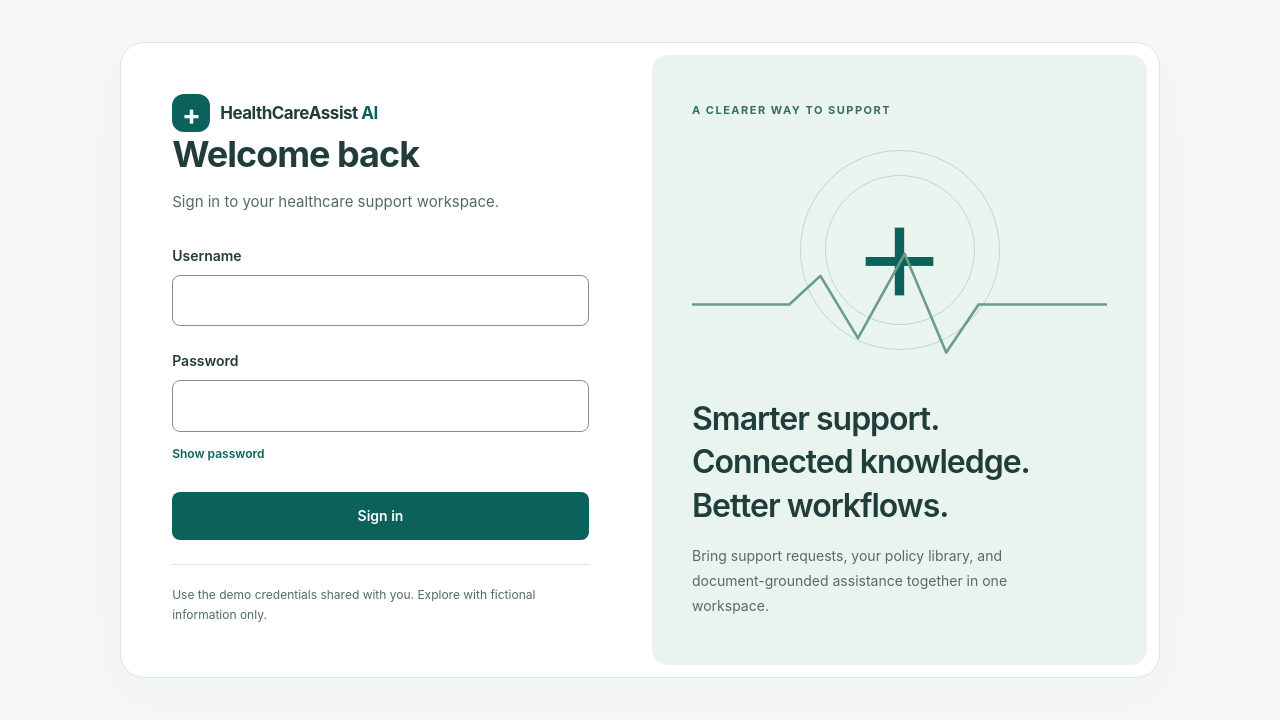
server-backed demo authentication › shows a safe login network failure without retrying
Type "fictional-reviewer" into the field labelled "Username". click: {"x": 380, "y": 301}
box: [172,275,589,326]
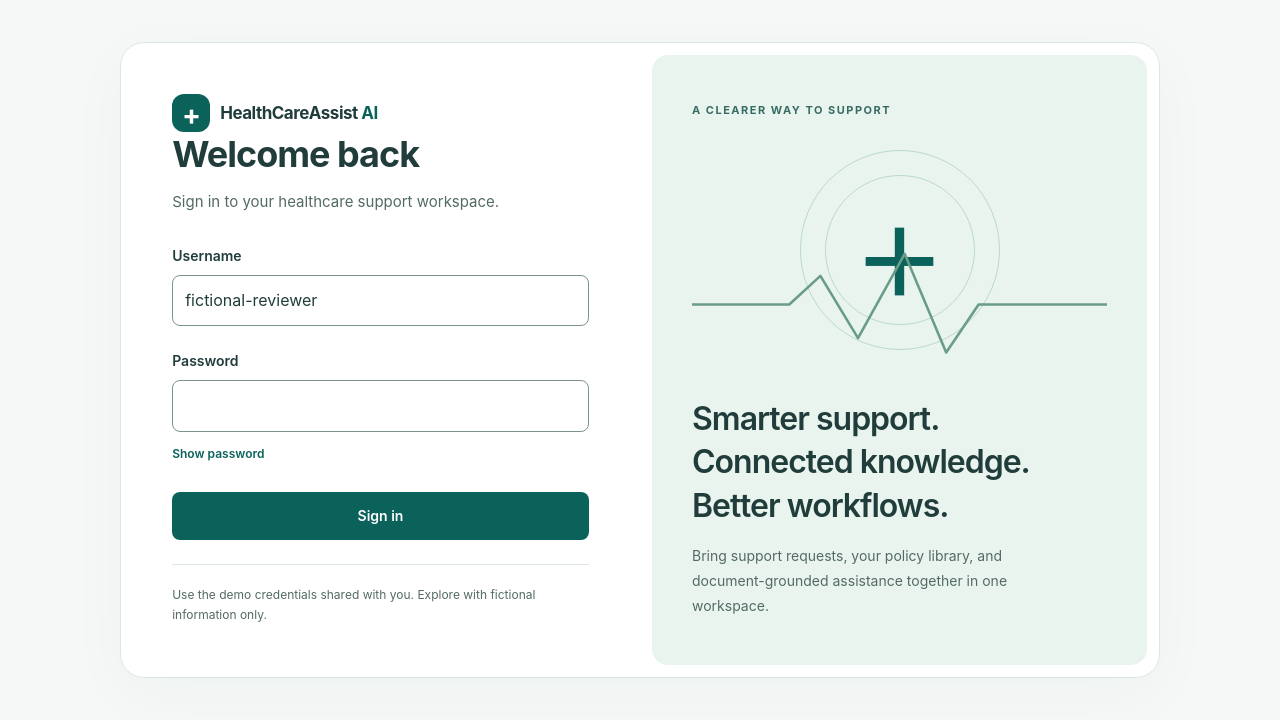
Type "synthetic-input-only" into the password field labelled "Password". click: {"x": 380, "y": 406}
box: [172,380,589,432]
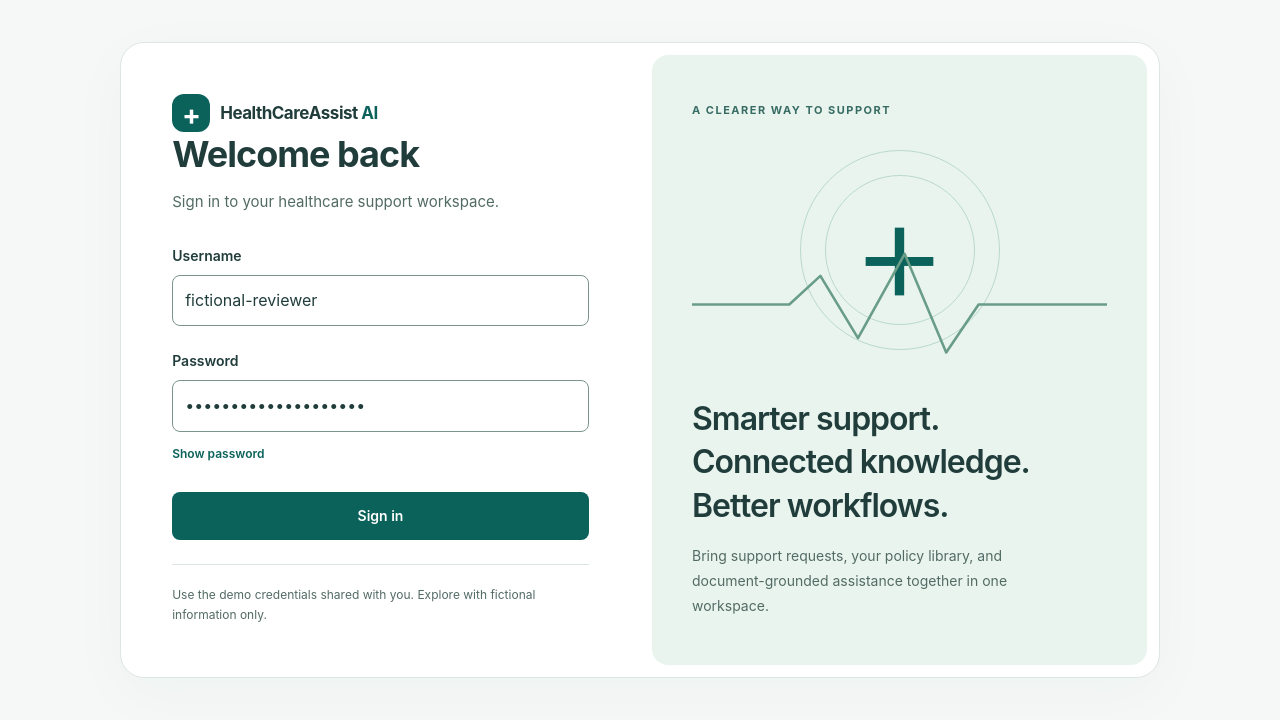
Submit the form named "Demo sign in", box [172,245,589,540]
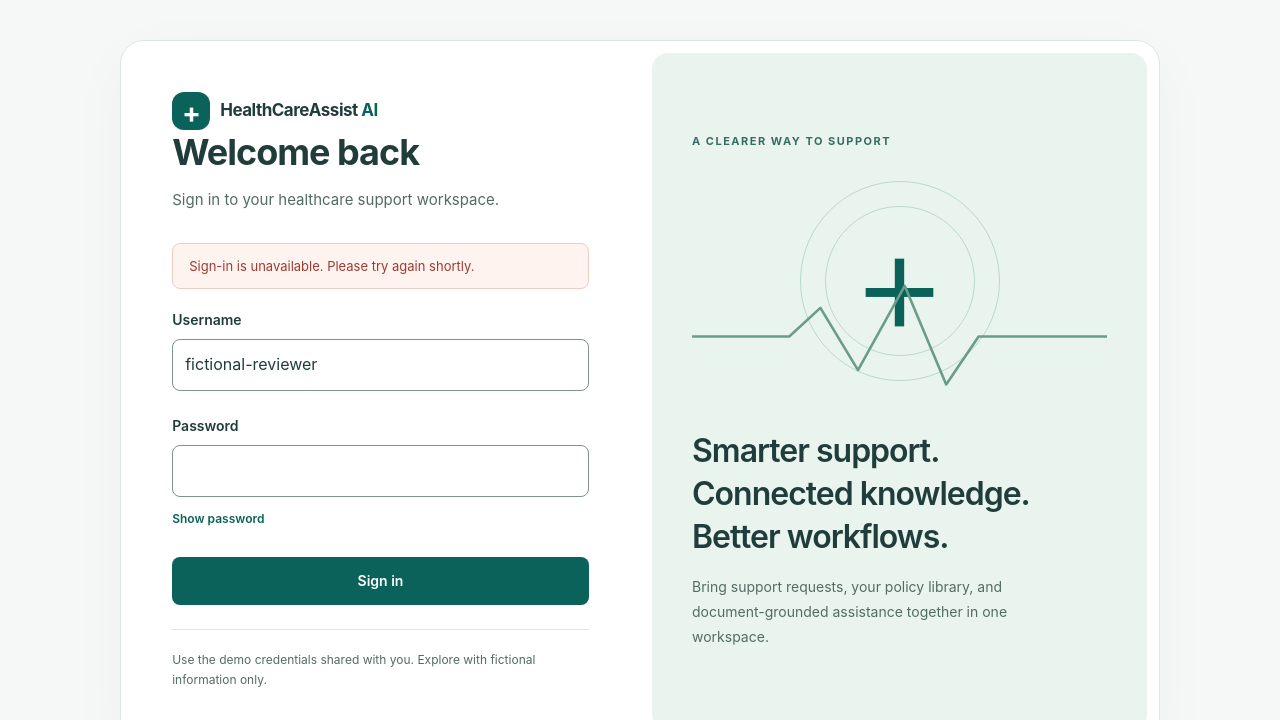
Check: the message shows "Sign-in is unavailable", box [189,258,474,274]
